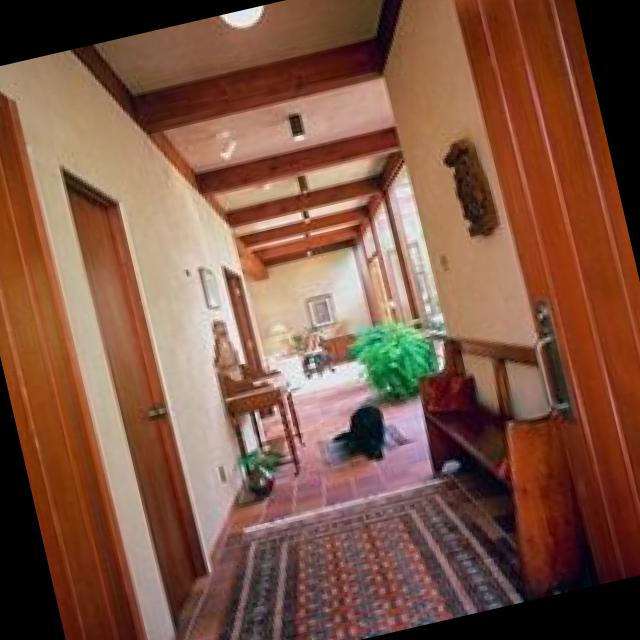carpet floor: (221, 469, 564, 640)
door bars: (65, 161, 210, 640)
doorpart: (452, 0, 640, 579)
image: (202, 265, 223, 304)
light fixture: (224, 4, 265, 22)
plant -x: (354, 315, 434, 395), (248, 448, 280, 474)
